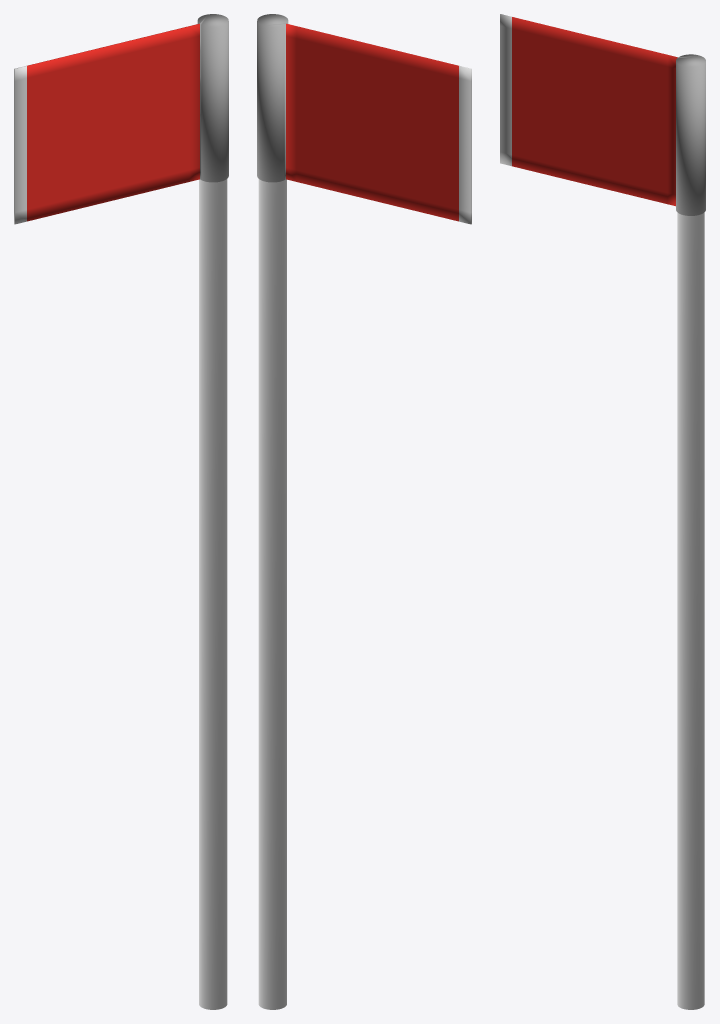
File: corner flag pole v2.fbx
3 renders of one model, left to right at view 1: azimuth 30°, elevation 25°; view 2: azimuth 150°, elevation 25°; view 3: azimuth 330°, elevation 25°, orthographic. The views are drawn at different scales.
Visible parts, largest first — view 1: Cylinder; view 2: Cylinder; view 3: Cylinder.
Boxes of the visible parts, box(x1,y1,x2,y2) form: Cylinder: box(14, 14, 228, 1009); Cylinder: box(257, 14, 471, 1009); Cylinder: box(500, 14, 705, 1009).
Bounding box in the file's own units: 42.93 × 190 × 5.48.
